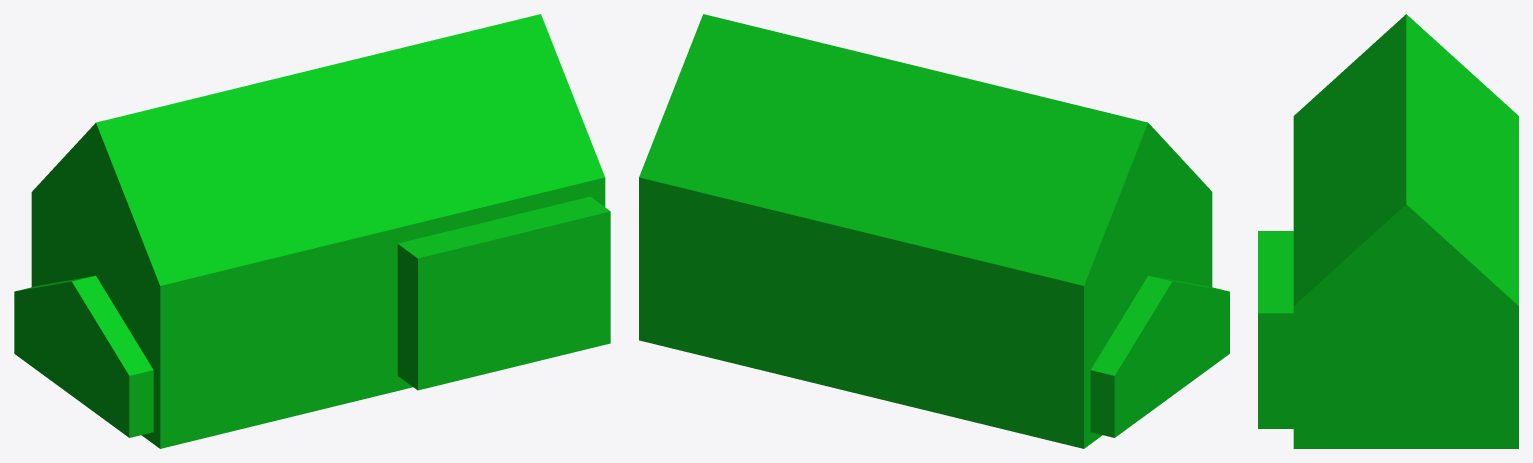
Rendered from House_2.fbx.
3 views of the same model, side by side, from view 1: azimuth 30°, elevation 25°; view 2: azimuth 150°, elevation 25°; view 3: azimuth 270°, elevation 25° (orthographic). The views are drawn at different scales.
Visible parts, largest first — view 1: Cube.005; view 2: Cube.005; view 3: Cube.005.
Boxes of the visible parts, x1,y1,x2,y2 form: Cube.005: [14, 14, 610, 448]; Cube.005: [639, 14, 1229, 448]; Cube.005: [1258, 14, 1518, 448].
Bounding box in the file's own units: 199 × 113 × 109.
